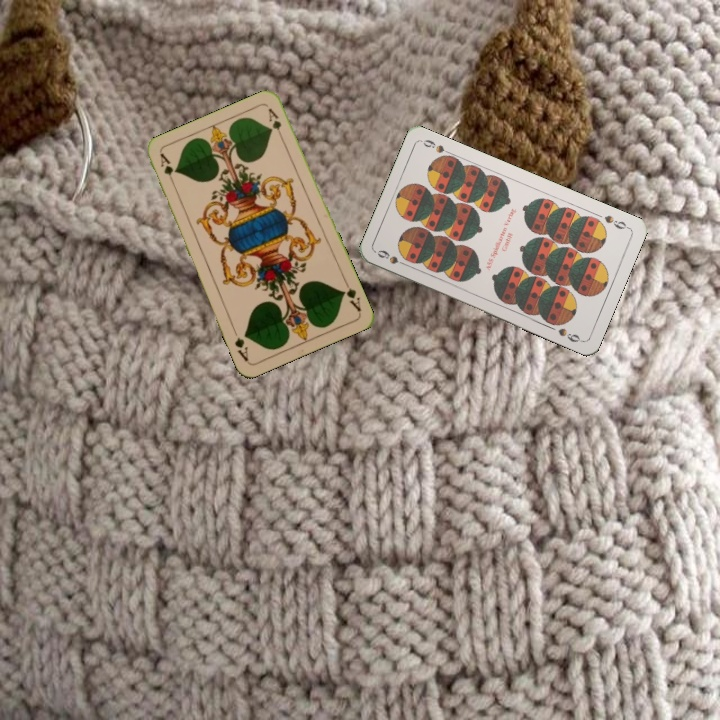GA: (338, 276, 364, 314), (156, 150, 178, 189)
S9: (373, 246, 411, 269), (600, 211, 632, 232)
